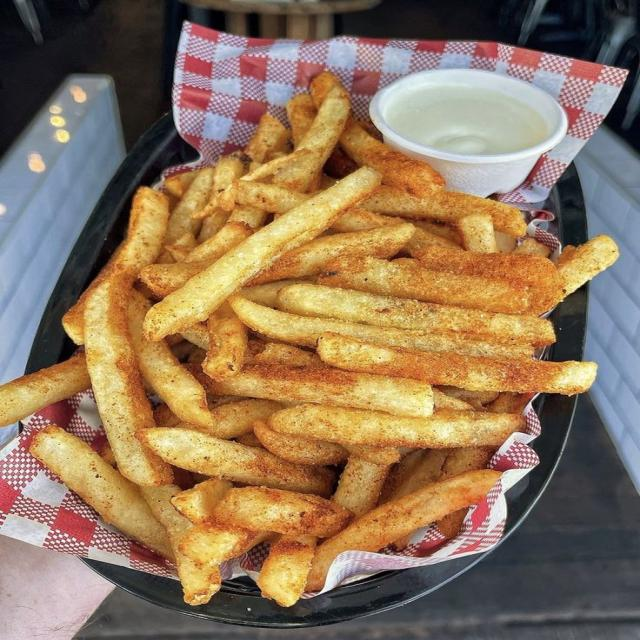potato fries: (0, 72, 617, 606), (145, 168, 379, 340), (307, 470, 500, 590), (30, 425, 173, 559), (230, 296, 533, 358), (84, 277, 172, 485), (277, 284, 554, 346), (319, 334, 597, 394), (63, 188, 168, 344), (138, 428, 333, 495), (201, 365, 433, 416), (318, 258, 531, 313), (129, 291, 213, 428), (268, 405, 523, 448), (251, 223, 413, 284), (141, 485, 221, 605), (363, 186, 526, 237), (340, 121, 445, 198), (274, 86, 350, 191), (214, 487, 352, 537), (0, 354, 90, 425), (254, 421, 348, 465), (257, 536, 316, 606), (192, 154, 246, 226), (179, 524, 270, 565), (165, 167, 214, 243), (190, 399, 283, 439), (558, 236, 619, 296), (333, 456, 389, 518), (202, 305, 247, 379), (171, 479, 232, 524), (245, 115, 289, 163), (439, 448, 494, 480), (254, 343, 326, 367), (287, 94, 317, 147), (458, 214, 498, 252), (513, 237, 551, 257)
